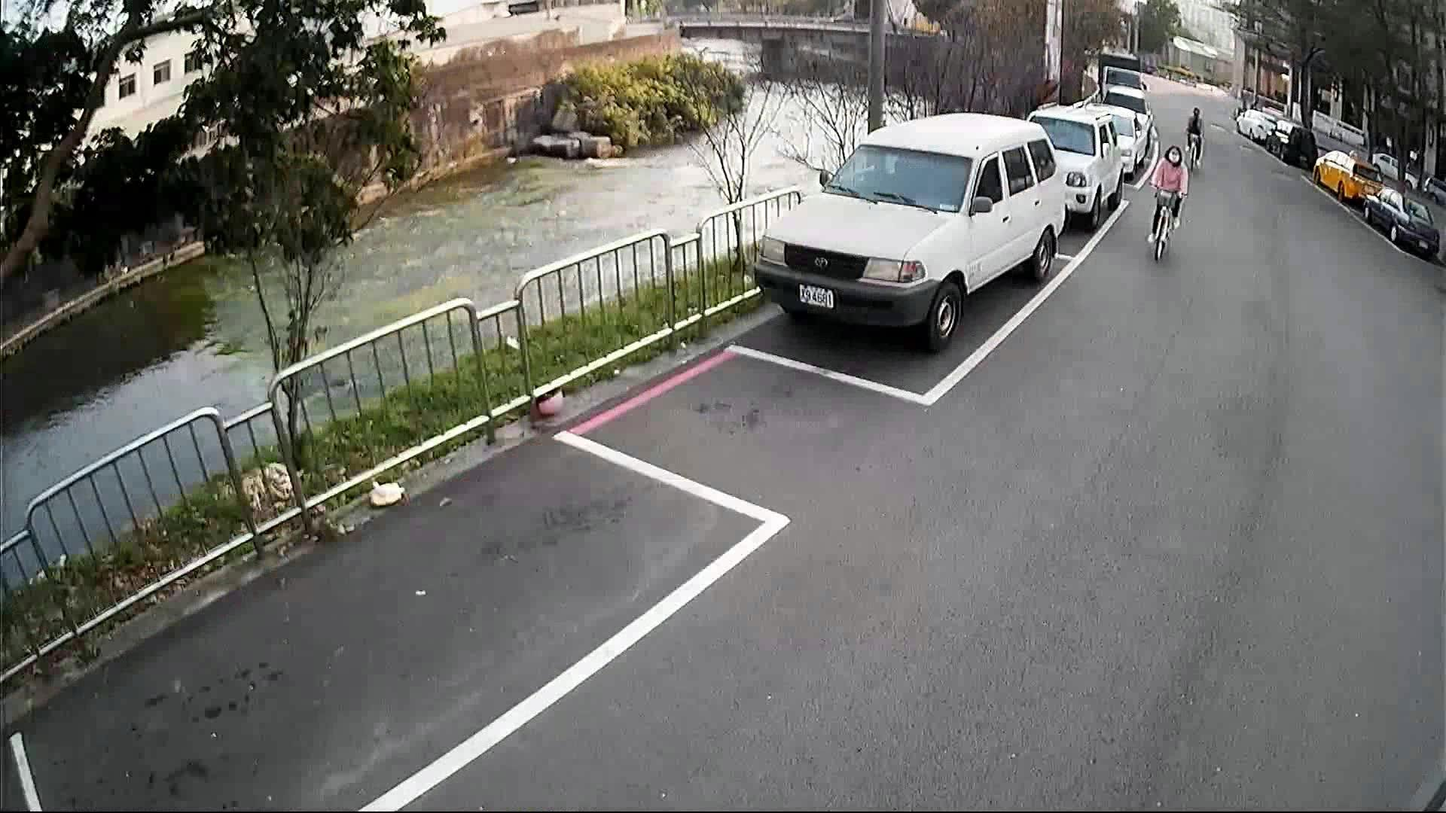person: (1143, 142, 1188, 240)
